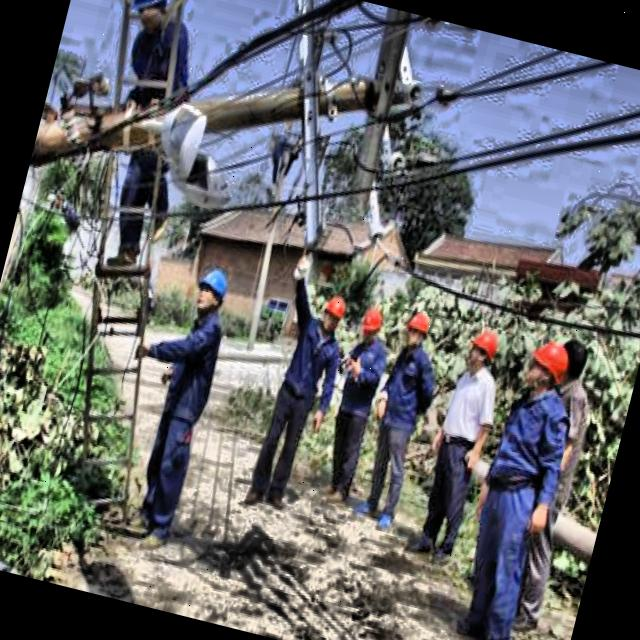helmet: (520, 336, 576, 398), (186, 262, 232, 326), (460, 317, 504, 380), (126, 0, 178, 37), (314, 286, 350, 338), (400, 305, 434, 356), (356, 300, 388, 350)
